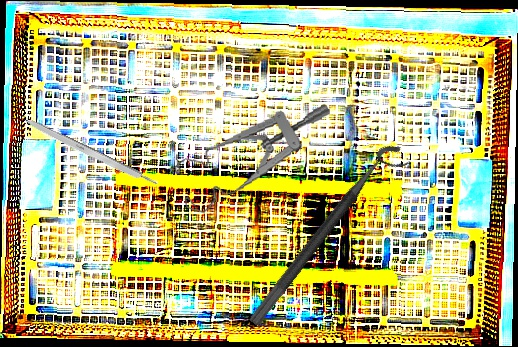Fixation Ring: (247, 137, 414, 339)
Scalpel Handle: (22, 116, 159, 190)
Speculum: (168, 101, 341, 217)
